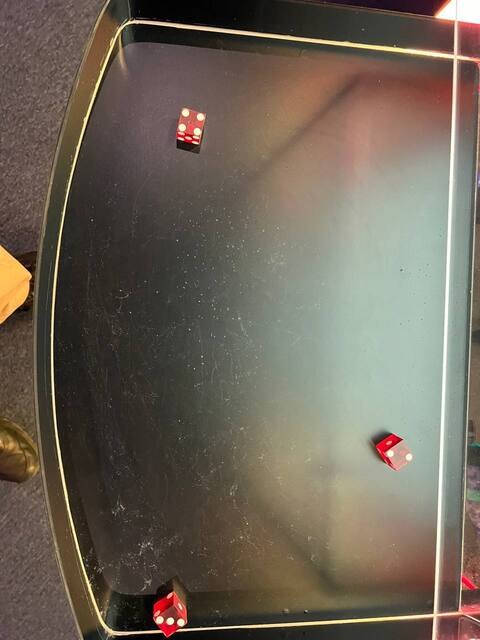four: (176, 104, 207, 139)
three: (152, 611, 187, 635)
two: (383, 443, 414, 473)
